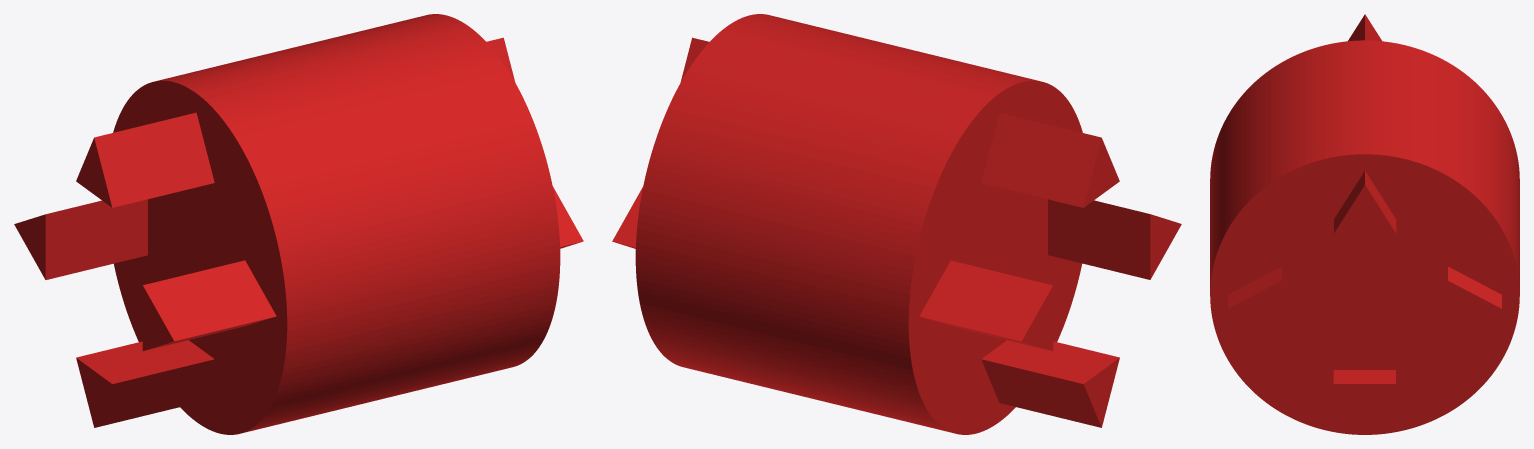
Rendered from 1_colored.obj.
3 views of the same model, side by side, from view 1: azimuth 30°, elevation 25°; view 2: azimuth 150°, elevation 25°; view 3: azimuth 270°, elevation 25° (orthographic). The views are drawn at different scales.
Size of the model in its own units: 0.03 by 0.023 by 0.023.
